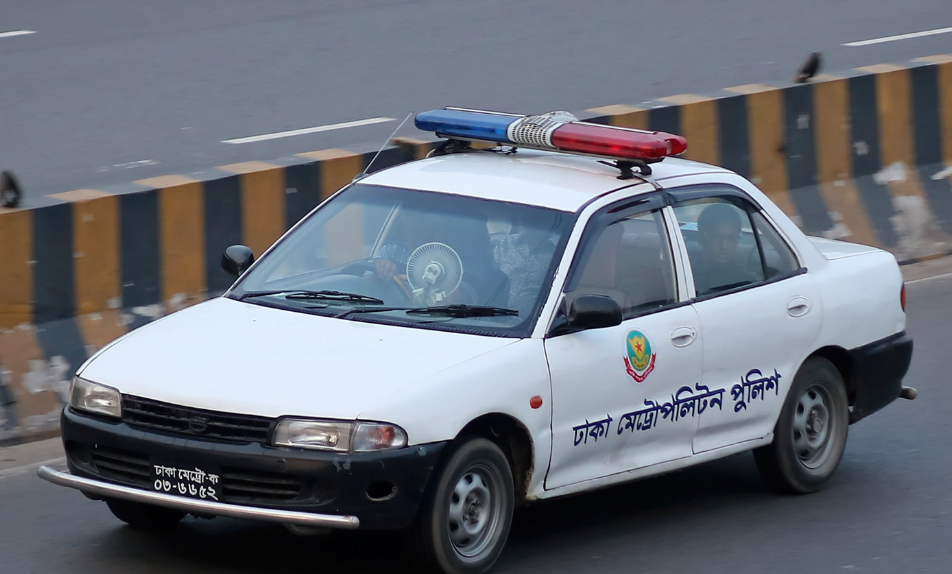Police cars: (36, 98, 930, 561)
